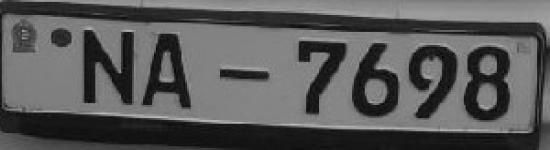-: (220, 67, 269, 83)
6: (352, 39, 405, 119)
7: (294, 33, 349, 120)
8: (465, 46, 516, 120)
9: (409, 44, 462, 121)
A: (143, 29, 200, 111)
N: (76, 23, 136, 111)
